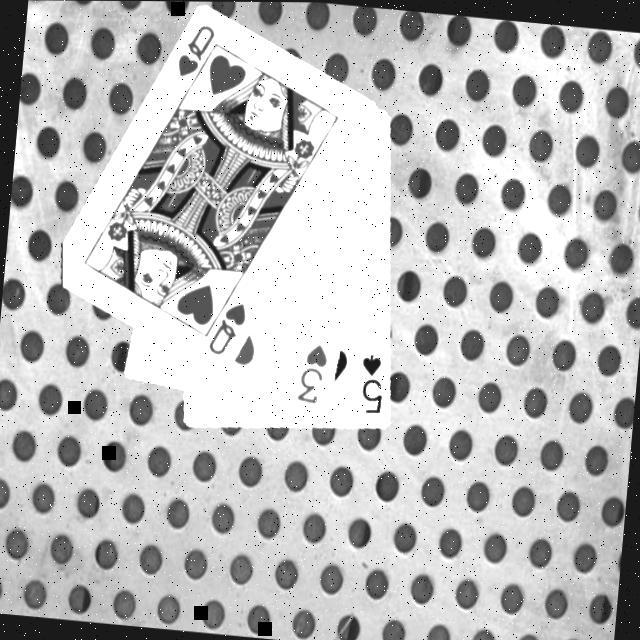3H: (294, 340, 332, 408)
5S: (356, 351, 390, 418)
QH: (172, 19, 224, 96), (204, 298, 251, 362)
